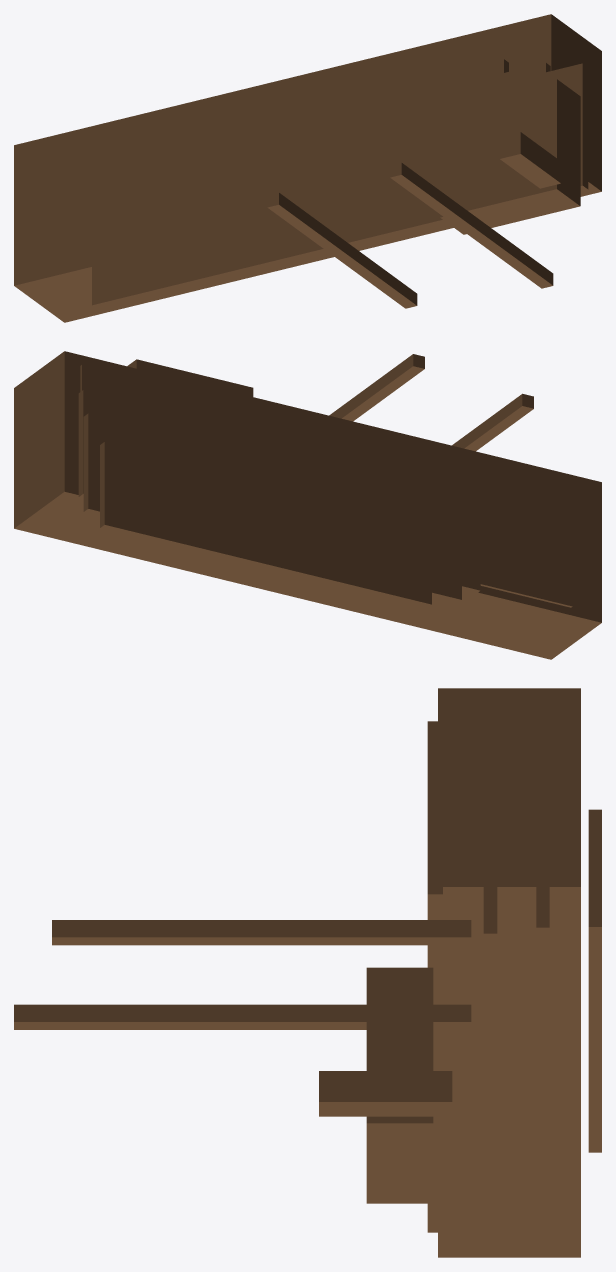
File: SM_LaLiberacion_Alpha.gltf
The picture shows the model from 3 angles, top to bottom: view 1: azimuth 30°, elevation 25°; view 2: azimuth 150°, elevation 25°; view 3: azimuth 270°, elevation 25°; orthographic projection. The views are drawn at different scales.
Visible parts, largest first — view 1: SM_LaLiberacion_Alpha; view 2: SM_LaLiberacion_Alpha; view 3: SM_LaLiberacion_Alpha.
Part boxes in pixels (x1=…): SM_LaLiberacion_Alpha: x1=14, y1=14, x2=601, y2=322; SM_LaLiberacion_Alpha: x1=14, y1=351, x2=601, y2=659; SM_LaLiberacion_Alpha: x1=14, y1=688, x2=601, y2=1257.
Size of the model in its own units: 9.2 by 2.3 by 6.17.
